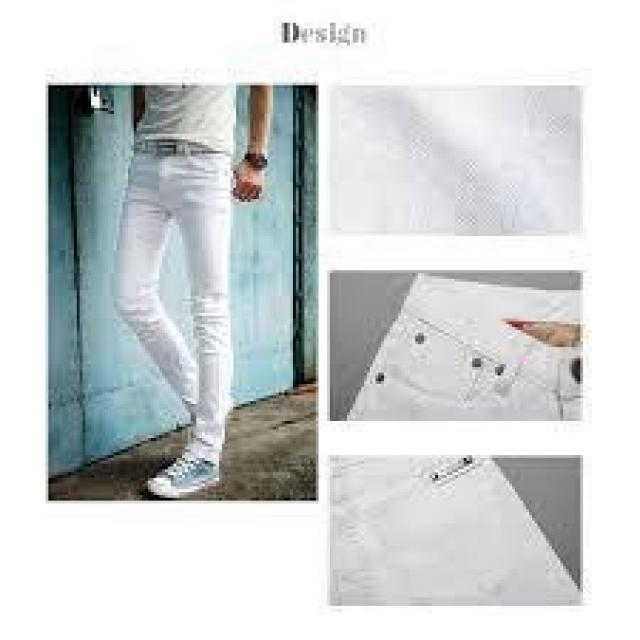pants: (112, 146, 240, 456)
